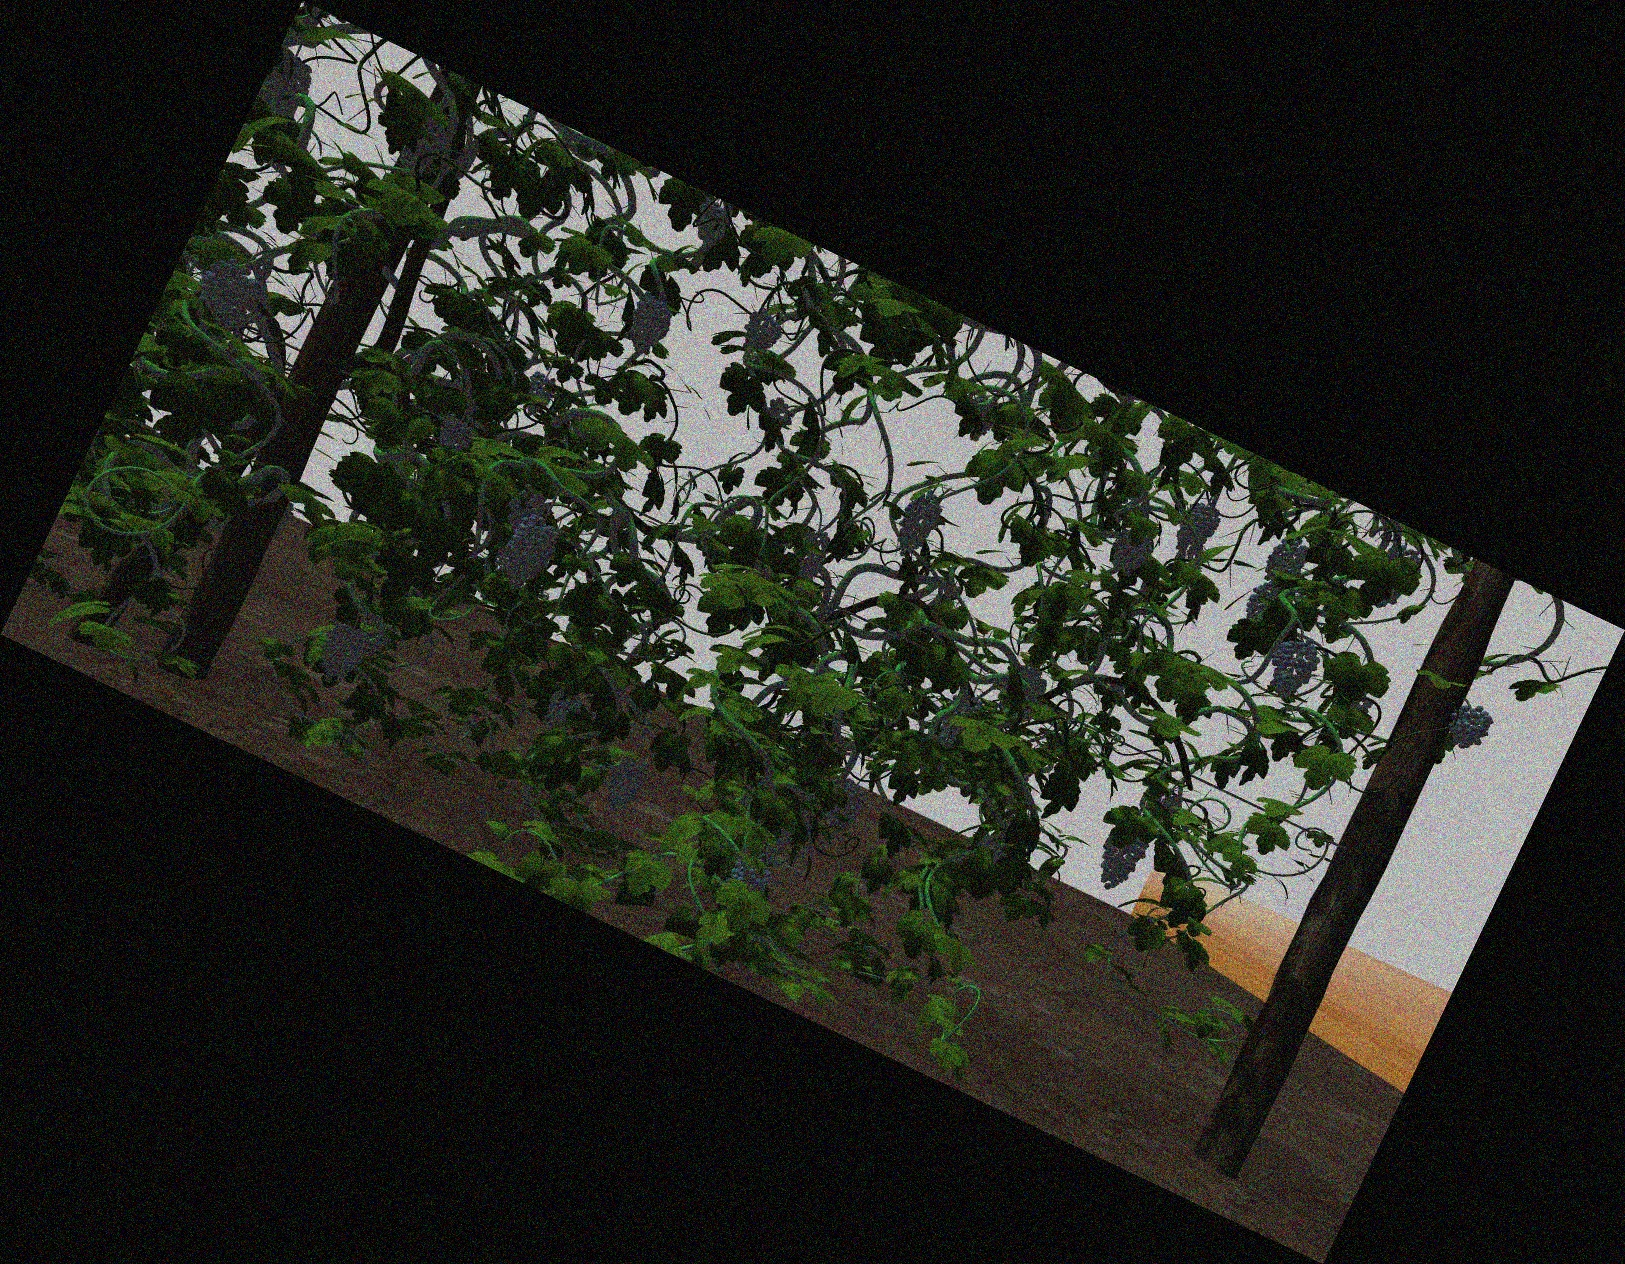grape: (199, 261, 259, 323), (506, 519, 550, 590), (1099, 822, 1141, 893), (1266, 637, 1314, 698), (269, 55, 309, 116), (321, 625, 361, 683), (629, 297, 669, 354), (604, 755, 640, 815), (900, 493, 934, 555), (791, 529, 827, 578), (1180, 504, 1213, 555), (828, 781, 859, 837), (1269, 537, 1303, 585), (1115, 530, 1150, 575), (1450, 705, 1488, 745), (547, 687, 578, 732), (745, 313, 780, 352), (510, 487, 542, 526), (694, 202, 725, 241), (524, 373, 551, 414), (732, 862, 770, 888), (439, 416, 470, 449)
